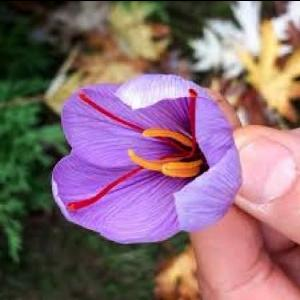Saffron: (52, 71, 244, 244)
